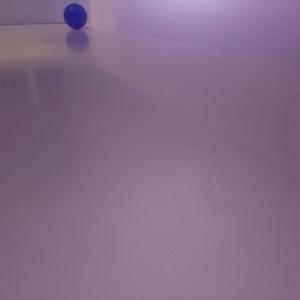dead_ball: (63, 3, 87, 28)
